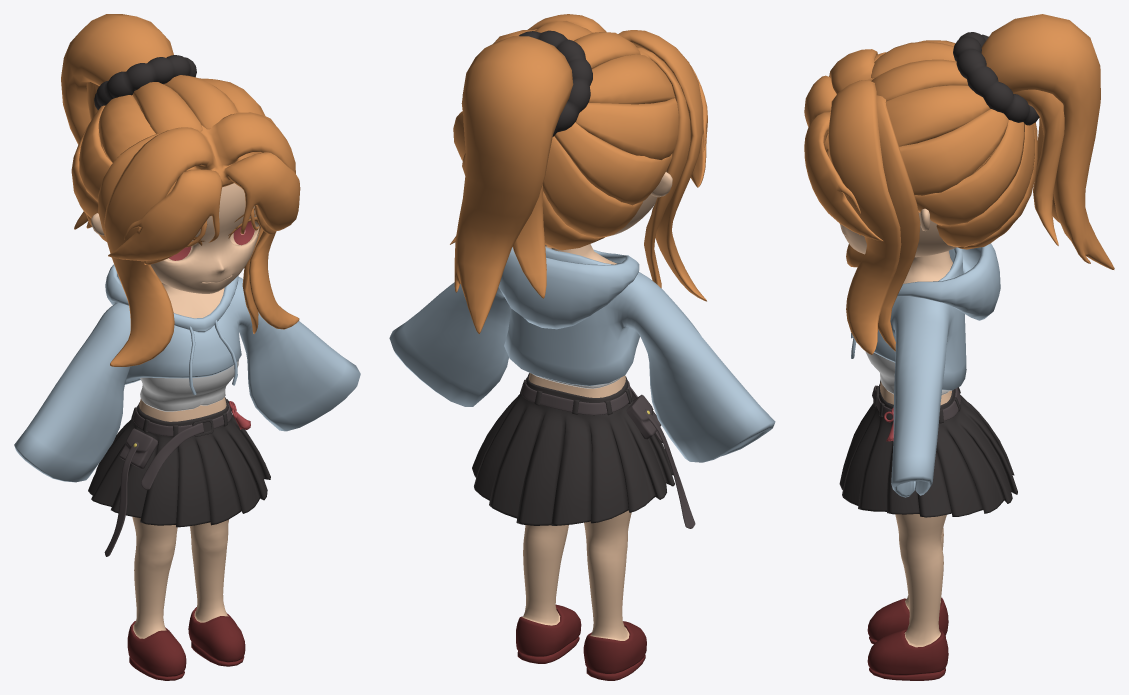
Rendered from CharacterPLACEHOLDER.fbx.
3 renders of one model, left to right at view 1: azimuth 30°, elevation 25°; view 2: azimuth 150°, elevation 25°; view 3: azimuth 270°, elevation 25°, orthographic. The views are drawn at different scales.
Visible parts, largest first — view 1: Cube.008, Cylinder.008, Circle.002, Cylinder.006, Cylinder.001, Head, Plane.005, Plane.006, Cube.010, Torus, Plane.007, Cylinder.005 (+7 smaller); view 2: Cylinder.008, Cylinder.001, Circle.002, Cylinder.006, Cube.008, Plane.009, Plane.010, Plane.007, Plane.006, Torus, Cylinder.002, Plane.005 (+5 smaller); view 3: Cube.008, Cylinder.008, Cylinder.001, Circle.002, Cylinder.006, Plane.007, Plane.009, Plane.006, Plane.005, Cylinder.003, Torus, Plane.010 (+4 smaller).
Part boxes in pixels (box(x1,y1,x2,y2)): Cube.008: box(98, 112, 300, 366); Cylinder.008: box(14, 264, 360, 482); Circle.002: box(88, 397, 270, 527); Cylinder.006: box(127, 516, 245, 680); Cylinder.001: box(61, 14, 173, 228); Head: box(150, 183, 260, 293); Plane.005: box(132, 75, 238, 133); Plane.006: box(98, 78, 265, 162); Cube.010: box(140, 360, 238, 411); Torus: box(94, 55, 196, 109); Plane.007: box(79, 105, 112, 201); Cylinder.005: box(162, 283, 224, 318); Cylinder.008: box(389, 245, 775, 462); Cylinder.001: box(454, 36, 573, 333); Circle.002: box(472, 373, 674, 525); Cylinder.006: box(516, 510, 646, 680); Cube.008: box(527, 14, 707, 301); Plane.009: box(453, 111, 672, 205); Plane.010: box(462, 136, 642, 238); Plane.007: box(461, 98, 678, 159); Plane.006: box(493, 30, 675, 104); Torus: box(519, 30, 592, 136); Cylinder.002: box(512, 184, 546, 298); Plane.005: box(534, 21, 640, 68); Cube.008: box(804, 49, 996, 354); Cylinder.008: box(874, 243, 1000, 497); Cylinder.001: box(981, 14, 1114, 269); Circle.002: box(839, 381, 1017, 517); Cylinder.006: box(867, 514, 948, 680); Plane.007: box(899, 108, 1008, 195); Plane.009: box(914, 120, 1024, 226); Plane.006: box(885, 40, 989, 146); Plane.005: box(871, 41, 967, 100); Cylinder.003: box(1013, 89, 1064, 245); Torus: box(953, 32, 1039, 125); Plane.010: box(936, 124, 1034, 247).
Size of the model in its own units: 517 by 873 by 386.
